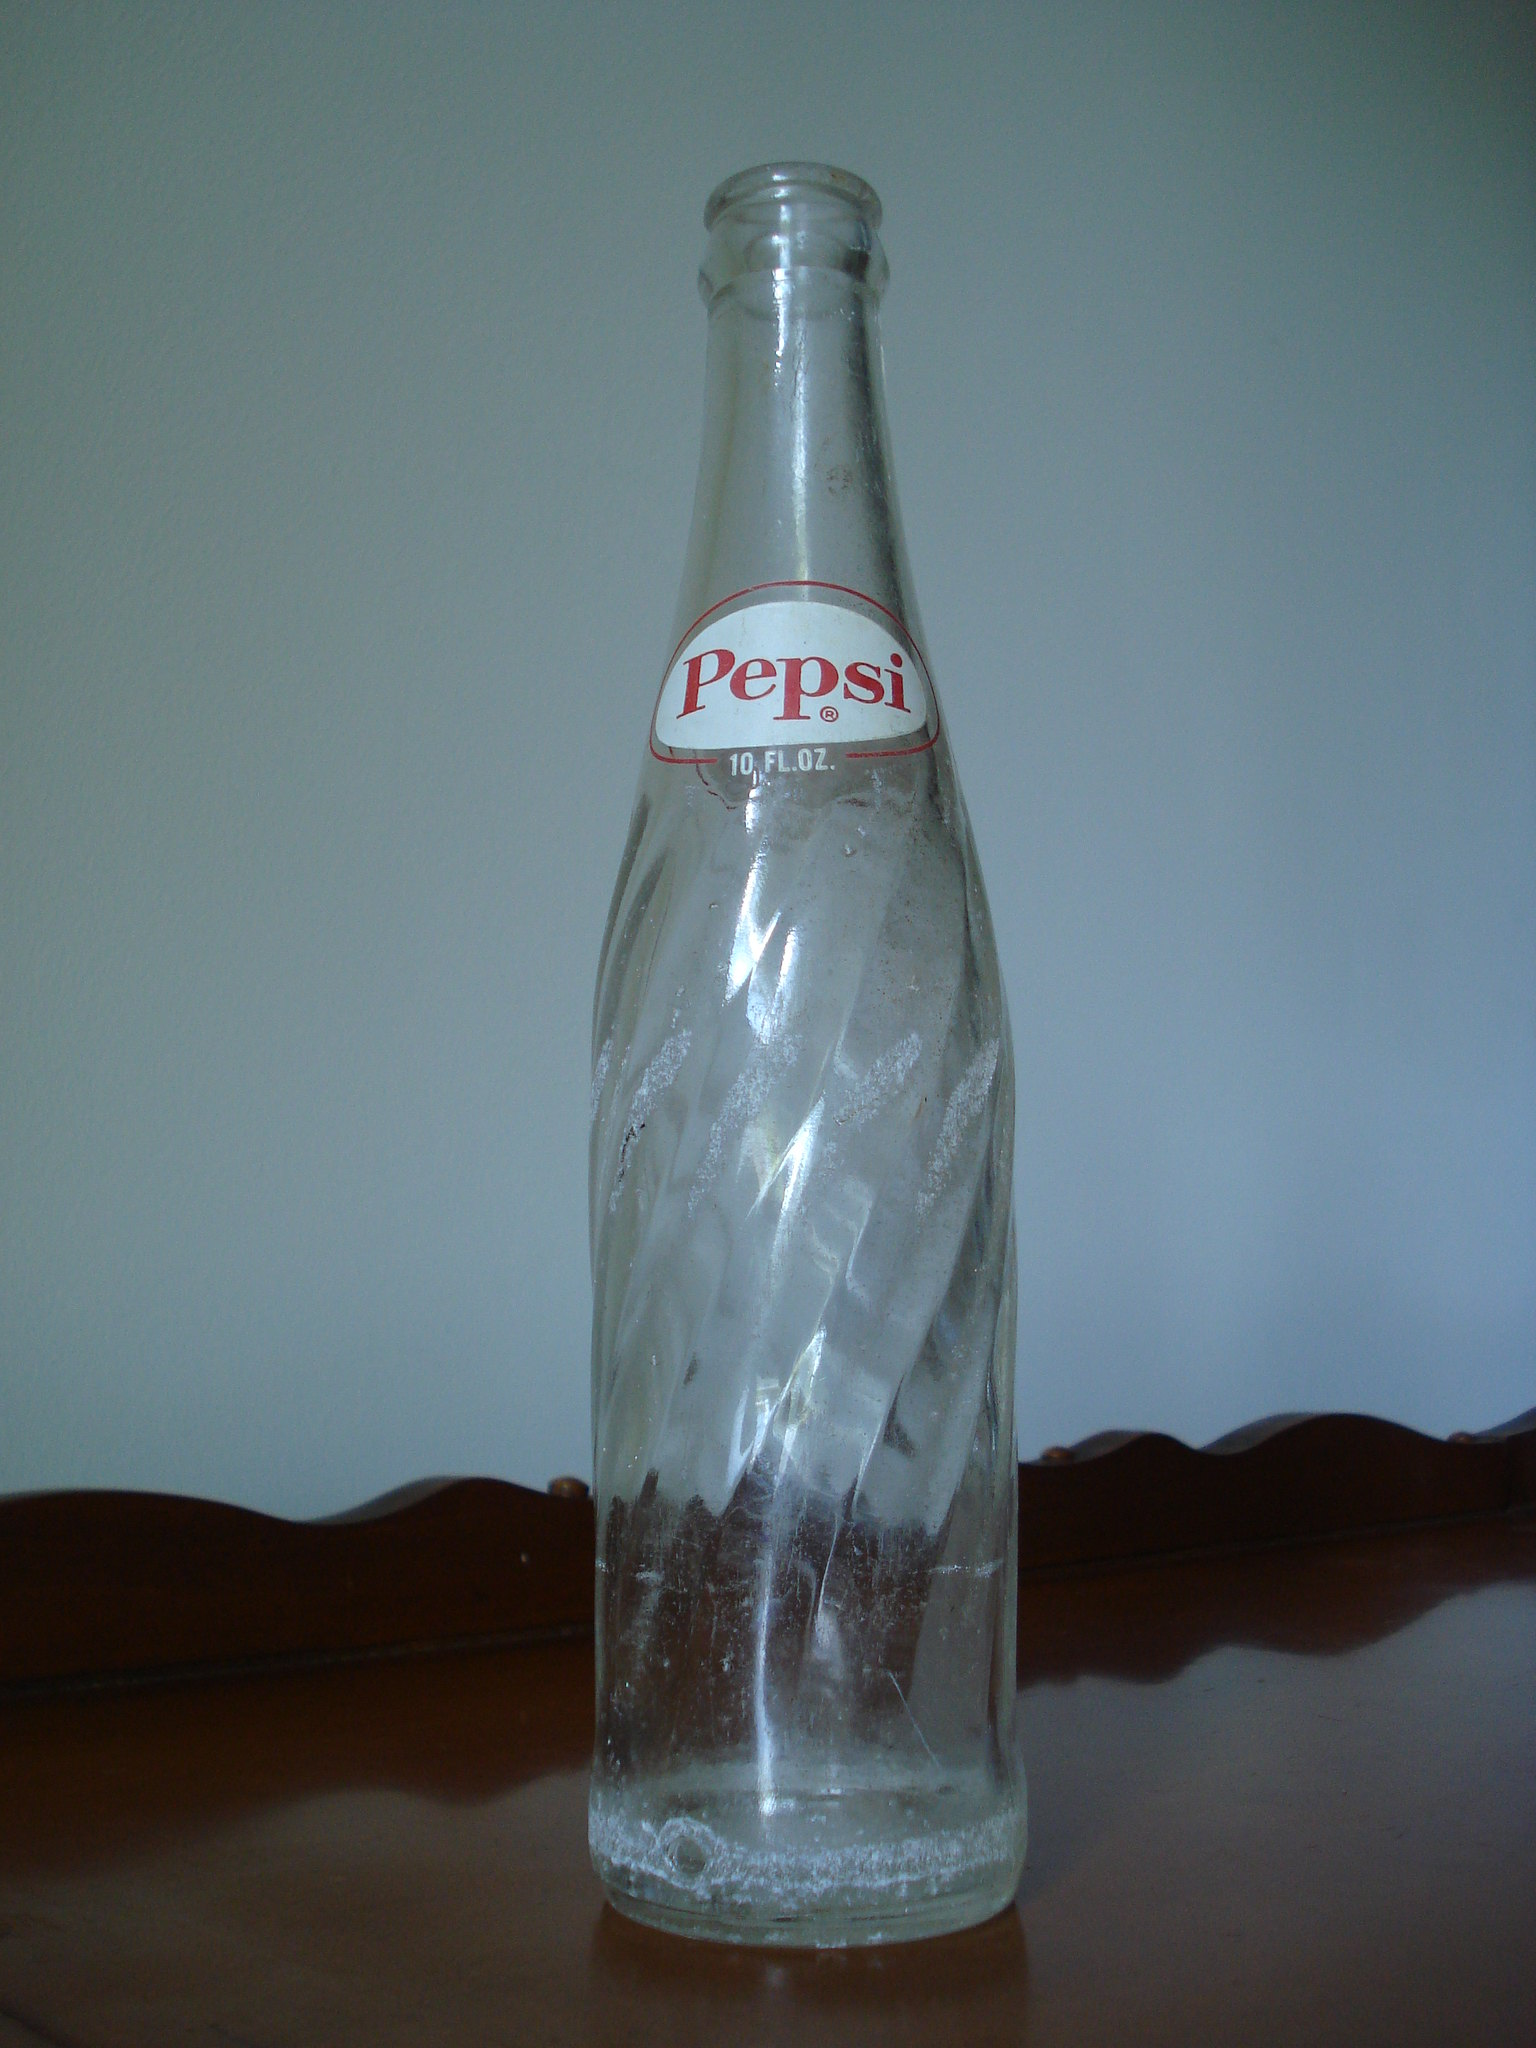bottle: (571, 161, 1046, 1946)
